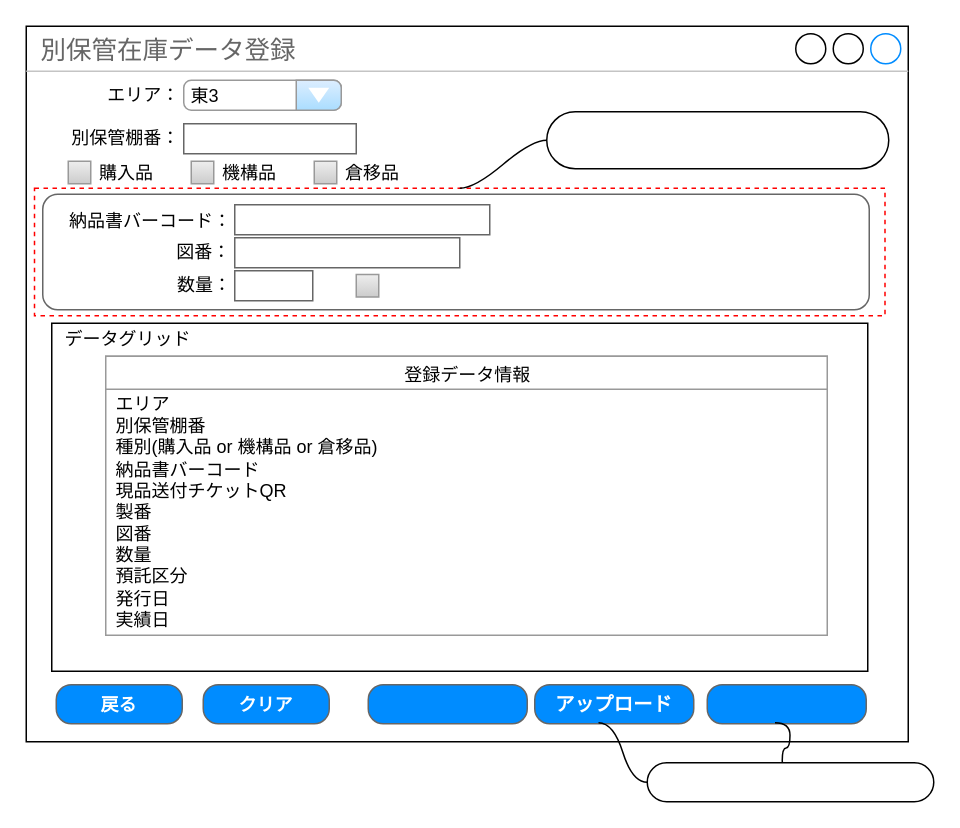
This 960x828 diagram has some shape labels left out. The centre of each missing label's shape, as x and y in pixels:
オフラインの場合のみ使用可: (x=790, y=781)
現品識別票印刷: (x=786, y=703)
登録: (x=447, y=703)
選択した種別によって項目が変わる: (x=717, y=139)
預託区分: (x=367, y=285)
